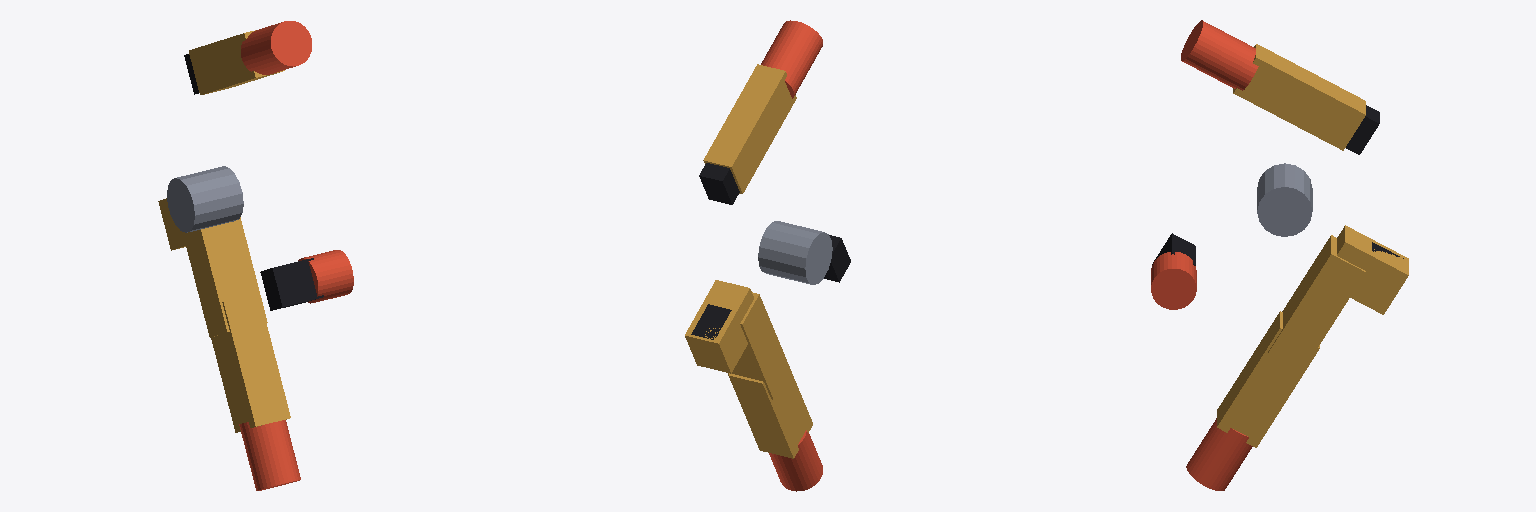
robot.urdf — g0000_c01:
<robot name="g0000_c01">
  <link name="palm">
    <visual name="palm_palm1">
      <origin xyz="0 0 0" rpy="0 0 0" />
      <geometry>
        <mesh filename="palm_palm1.obj" />
      </geometry>
      <material name="palm_palm1_mat">
        <color rgba="0.55 0.57 0.62 1" />
      </material>
    </visual>
    <collision>
      <origin xyz="0 0 0" rpy="0 0 0" />
      <geometry>
        <mesh filename="palm_palm1.obj" />
      </geometry>
    </collision>
    <visual name="palm_mount2">
      <origin xyz="0 0 0" rpy="0 0 0" />
      <geometry>
        <mesh filename="palm_mount2.obj" />
      </geometry>
      <material name="palm_mount2_mat">
        <color rgba="0.55 0.57 0.62 1" />
      </material>
    </visual>
    <collision>
      <origin xyz="0 0 0" rpy="0 0 0" />
      <geometry>
        <mesh filename="palm_mount2.obj" />
      </geometry>
    </collision>
    <visual name="palm_motor3">
      <origin xyz="-0.007 -0.08 -0.04" rpy="1.06057524e-16 -1.04719755 1.57079633" />
      <geometry>
        <box size="0.029 0.034 0.02" />
      </geometry>
      <material name="palm_motor3_mat">
        <color rgba="0.15 0.15 0.17 1" />
      </material>
    </visual>
    <collision>
      <origin xyz="-0.007 -0.08 -0.04" rpy="1.06057524e-16 -1.04719755 1.57079633" />
      <geometry>
        <box size="0.029 0.034 0.02" />
      </geometry>
    </collision>
    <visual name="palm_motor4">
      <origin xyz="-0.0045 0.0666996732 -0.0467548095" rpy="1.57079633 -0.523598776 -1.57079633" />
      <geometry>
        <box size="0.029 0.034 0.02" />
      </geometry>
      <material name="palm_motor4_mat">
        <color rgba="0.15 0.15 0.17 1" />
      </material>
    </visual>
    <collision>
      <origin xyz="-0.0045 0.0666996732 -0.0467548095" rpy="1.57079633 -0.523598776 -1.57079633" />
      <geometry>
        <box size="0.029 0.034 0.02" />
      </geometry>
    </collision>
    <visual name="palm_motor5">
      <origin xyz="0 0.0464951905 0.07625" rpy="-1.57079633 -1.04719755 1.57079633" />
      <geometry>
        <box size="0.029 0.034 0.02" />
      </geometry>
      <material name="palm_motor5_mat">
        <color rgba="0.15 0.15 0.17 1" />
      </material>
    </visual>
    <collision>
      <origin xyz="0 0.0464951905 0.07625" rpy="-1.57079633 -1.04719755 1.57079633" />
      <geometry>
        <box size="0.029 0.034 0.02" />
      </geometry>
    </collision>
    <inertial>
      <origin xyz="0 0.0129490761 -0.00278225662" rpy="1.57079633 -0.660397961 1.57079633" />
      <mass value="0.826437139" />
      <inertia ixx="0.00110302058" ixy="0" ixz="0" iyy="0.00200055238" iyz="0" izz="0.003024235" />
    </inertial>
  </link>
  <link name="f0_link0">
    <visual name="f0_link0_link1">
      <origin xyz="0.019 0 -6.9388939e-18" rpy="-1.57079633 -0 -1.57079633" />
      <geometry>
        <cylinder radius="0.0165" length="0.029" />
      </geometry>
      <material name="f0_link0_link1_mat">
        <color rgba="0.85 0.35 0.25 1" />
      </material>
    </visual>
    <collision>
      <origin xyz="0.019 0 -6.9388939e-18" rpy="-1.57079633 -0 -1.57079633" />
      <geometry>
        <cylinder radius="0.0165" length="0.029" />
      </geometry>
    </collision>
    <inertial>
      <origin xyz="0.019 0 0" rpy="0 0 0" />
      <mass value="0.0763354" />
      <inertia ixx="9.49466441e-06" ixy="0" ixz="0" iyy="2.24143997e-05" iyz="0" izz="2.24143997e-05" />
    </inertial>
  </link>
  <link name="f1_link0">
    <visual name="f1_link0_link1">
      <origin xyz="-0.00625 0 -0.0165" rpy="0 4.06369831e-17 0" />
      <geometry>
        <box size="0.0365 0.029 0.053" />
      </geometry>
      <material name="f1_link0_link1_mat">
        <color rgba="0.80 0.62 0.30 1" />
      </material>
    </visual>
    <collision>
      <origin xyz="-0.00625 0 -0.0165" rpy="0 4.06369831e-17 0" />
      <geometry>
        <box size="0.0365 0.029 0.053" />
      </geometry>
    </collision>
    <inertial>
      <origin xyz="-0.00625 0 -0.0165" rpy="0 0 0" />
      <mass value="0.098175875" />
      <inertia ixx="2.98618286e-05" ixy="0" ixz="0" iyy="3.38809035e-05" iyz="0" izz="1.778006e-05" />
    </inertial>
  </link>
  <link name="f1_link1">
    <visual name="f1_link1_link1">
      <origin xyz="0.03375 0 6.9388939e-18" rpy="0 4.06369831e-17 0" />
      <geometry>
        <box size="0.0915 0.033 0.029" />
      </geometry>
      <material name="f1_link1_link1_mat">
        <color rgba="0.80 0.62 0.30 1" />
      </material>
    </visual>
    <collision>
      <origin xyz="0.03375 0 6.9388939e-18" rpy="0 4.06369831e-17 0" />
      <geometry>
        <box size="0.0915 0.033 0.029" />
      </geometry>
    </collision>
    <inertial>
      <origin xyz="0.03375 0 0" rpy="0 0 0" />
      <mass value="0.153239625" />
      <inertia ixx="2.46460397e-05" ixy="0" ixz="0" iyy="0.000117652915" iyz="0" izz="0.000120819867" />
    </inertial>
  </link>
  <link name="f1_link2">
    <visual name="f1_link2_link1">
      <origin xyz="0.03375 0 -1.38777878e-17" rpy="0 4.06369831e-17 0" />
      <geometry>
        <box size="0.0915 0.029 0.033" />
      </geometry>
      <material name="f1_link2_link1_mat">
        <color rgba="0.80 0.62 0.30 1" />
      </material>
    </visual>
    <collision>
      <origin xyz="0.03375 0 -1.38777878e-17" rpy="0 4.06369831e-17 0" />
      <geometry>
        <box size="0.0915 0.029 0.033" />
      </geometry>
    </collision>
    <inertial>
      <origin xyz="0.03375 0 0" rpy="0 0 0" />
      <mass value="0.153239625" />
      <inertia ixx="2.46460397e-05" ixy="0" ixz="0" iyy="0.000120819867" iyz="0" izz="0.000117652915" />
    </inertial>
  </link>
  <link name="f1_link3">
    <visual name="f1_link3_link1">
      <origin xyz="0.029 0 1.04083409e-17" rpy="-1.57079633 -0 -1.57079633" />
      <geometry>
        <cylinder radius="0.0165" length="0.049" />
      </geometry>
      <material name="f1_link3_link1_mat">
        <color rgba="0.85 0.35 0.25 1" />
      </material>
    </visual>
    <collision>
      <origin xyz="0.029 0 1.04083409e-17" rpy="-1.57079633 -0 -1.57079633" />
      <geometry>
        <cylinder radius="0.0165" length="0.049" />
      </geometry>
    </collision>
    <inertial>
      <origin xyz="0.029 0 0" rpy="0 0 0" />
      <mass value="0.106270851" />
      <inertia ixx="1.35696277e-05" ixy="0" ixz="0" iyy="5.30015704e-05" iyz="0" izz="5.30015704e-05" />
    </inertial>
  </link>
  <link name="f2_link0">
    <visual name="f2_link0_link1">
      <origin xyz="0.03375 0 0" rpy="0 7.03853194e-17 0" />
      <geometry>
        <box size="0.0915 0.024 0.033" />
      </geometry>
      <material name="f2_link0_link1_mat">
        <color rgba="0.80 0.62 0.30 1" />
      </material>
    </visual>
    <collision>
      <origin xyz="0.03375 0 0" rpy="0 7.03853194e-17 0" />
      <geometry>
        <box size="0.0915 0.024 0.033" />
      </geometry>
    </collision>
    <inertial>
      <origin xyz="0.03375 0 0" rpy="0 0 0" />
      <mass value="0.126819" />
      <inertia ixx="1.75961363e-05" ixy="0" ixz="0" iyy="9.99888553e-05" iyz="0" izz="9.45673431e-05" />
    </inertial>
  </link>
  <link name="f2_link1">
    <visual name="f2_link1_link1">
      <origin xyz="0.029 0 -6.9388939e-18" rpy="-1.57079633 -0 -1.57079633" />
      <geometry>
        <cylinder radius="0.0165" length="0.049" />
      </geometry>
      <material name="f2_link1_link1_mat">
        <color rgba="0.85 0.35 0.25 1" />
      </material>
    </visual>
    <collision>
      <origin xyz="0.029 0 -6.9388939e-18" rpy="-1.57079633 -0 -1.57079633" />
      <geometry>
        <cylinder radius="0.0165" length="0.049" />
      </geometry>
    </collision>
    <inertial>
      <origin xyz="0.029 0 0" rpy="0 0 0" />
      <mass value="0.106270851" />
      <inertia ixx="1.35696277e-05" ixy="0" ixz="0" iyy="5.30015704e-05" iyz="0" izz="5.30015704e-05" />
    </inertial>
  </link>
  <joint name="f0_j0" type="revolute">
    <parent link="palm" />
    <child link="f0_link0" />
    <origin xyz="0.0005 -0.08 -0.04" rpy="1.04719755 5.30287619e-17 -3.061617e-17" />
    <axis xyz="0 1 6.123234e-17" />
    <limit effort="0.5" lower="-0.523598776" upper="0.523598776" velocity="5" />
    <dynamics damping="0.0775033" friction="0" />
  </joint>
  <joint name="f1_j0" type="revolute">
    <parent link="palm" />
    <child link="f1_link0" />
    <origin xyz="-0.0045 0.04 -0.04" rpy="0 1.04719755 -1.57079633" />
    <axis xyz="0 0 1" />
    <limit effort="0.5" lower="-0.523598776" upper="1.57079633" velocity="5" />
    <dynamics damping="0.0775033" friction="0" />
  </joint>
  <joint name="f1_j1" type="revolute">
    <parent link="f1_link0" />
    <child link="f1_link1" />
    <origin xyz="0 0 0" rpy="0 0 0" />
    <axis xyz="0 1 6.123234e-17" />
    <limit effort="0.5" lower="-0.523598776" upper="0.523598776" velocity="5" />
    <dynamics damping="0.0775033" friction="0" />
  </joint>
  <joint name="f1_j2" type="revolute">
    <parent link="f1_link1" />
    <child link="f1_link2" />
    <origin xyz="0.07 0 0" rpy="0 0 0" />
    <axis xyz="0 0 1" />
    <limit effort="0.5" lower="-0.523598776" upper="1.57079633" velocity="5" />
    <dynamics damping="0.0775033" friction="0" />
  </joint>
  <joint name="f1_j3" type="revolute">
    <parent link="f1_link2" />
    <child link="f1_link3" />
    <origin xyz="0.07 0 0" rpy="0 0 0" />
    <axis xyz="0 1 6.123234e-17" />
    <limit effort="0.5" lower="-0.523598776" upper="0.523598776" velocity="5" />
    <dynamics damping="0.0775033" friction="0" />
  </joint>
  <joint name="f2_j0" type="revolute">
    <parent link="palm" />
    <child link="f2_link0" />
    <origin xyz="0 0.04 0.08" rpy="-0 -0.523598776 -1.57079633" />
    <axis xyz="0 0 1" />
    <limit effort="0.5" lower="-0.523598776" upper="1.57079633" velocity="5" />
    <dynamics damping="0.0775033" friction="0" />
  </joint>
  <joint name="f2_j1" type="revolute">
    <parent link="f2_link0" />
    <child link="f2_link1" />
    <origin xyz="0.07 0 0" rpy="0 0 0" />
    <axis xyz="0 0 1" />
    <limit effort="0.5" lower="-0.523598776" upper="1.57079633" velocity="5" />
    <dynamics damping="0.0775033" friction="0" />
  </joint>
</robot>

--- Render facts (derived) ---
The picture shows the robot from 3 angles, left to right: view 1: azimuth 30°, elevation 25°; view 2: azimuth 150°, elevation 25°; view 3: azimuth 270°, elevation 25°; orthographic projection.
Robot: g0000_c01 — 8 links, 7 joints (7 revolute); root link palm; default pose: all joints at 0.
Visible links, largest first — view 1: f1_link2, palm, f1_link1, f1_link3, f2_link1, f2_link0, f0_link0, f1_link0; view 2: palm, f2_link0, f1_link2, f1_link0, f1_link1, f2_link1, f1_link3; view 3: f2_link0, f1_link1, f1_link2, palm, f1_link0, f2_link1, f1_link3, f0_link0.
Boxes of the visible links, x1,y1,x2,y2 form: f1_link2: [211, 294, 290, 432]; palm: [167, 54, 323, 310]; f1_link1: [183, 217, 267, 337]; f1_link3: [239, 420, 300, 490]; f2_link1: [241, 21, 311, 74]; f2_link0: [189, 30, 284, 94]; f0_link0: [298, 250, 353, 303]; f1_link0: [158, 198, 185, 250]; palm: [691, 163, 850, 339]; f2_link0: [703, 64, 796, 193]; f1_link2: [728, 370, 812, 458]; f1_link0: [685, 280, 753, 373]; f1_link1: [728, 292, 790, 399]; f2_link1: [761, 20, 822, 98]; f1_link3: [769, 430, 822, 491]; f2_link0: [1233, 44, 1365, 150]; f1_link1: [1268, 235, 1365, 371]; f1_link2: [1217, 311, 1319, 447]; palm: [1152, 105, 1403, 265]; f1_link0: [1337, 225, 1408, 314]; f2_link1: [1181, 20, 1258, 90]; f1_link3: [1186, 418, 1252, 490]; f0_link0: [1151, 252, 1196, 309].
Bounding box of the posed robot: 0.086 × 0.186 × 0.3719 m (x, y, z).
Meshes: 2 distinct files referenced, 1 mesh visuals loaded (1 OBJ); not drawn: 1 (reference not matched to a file when rendering).
